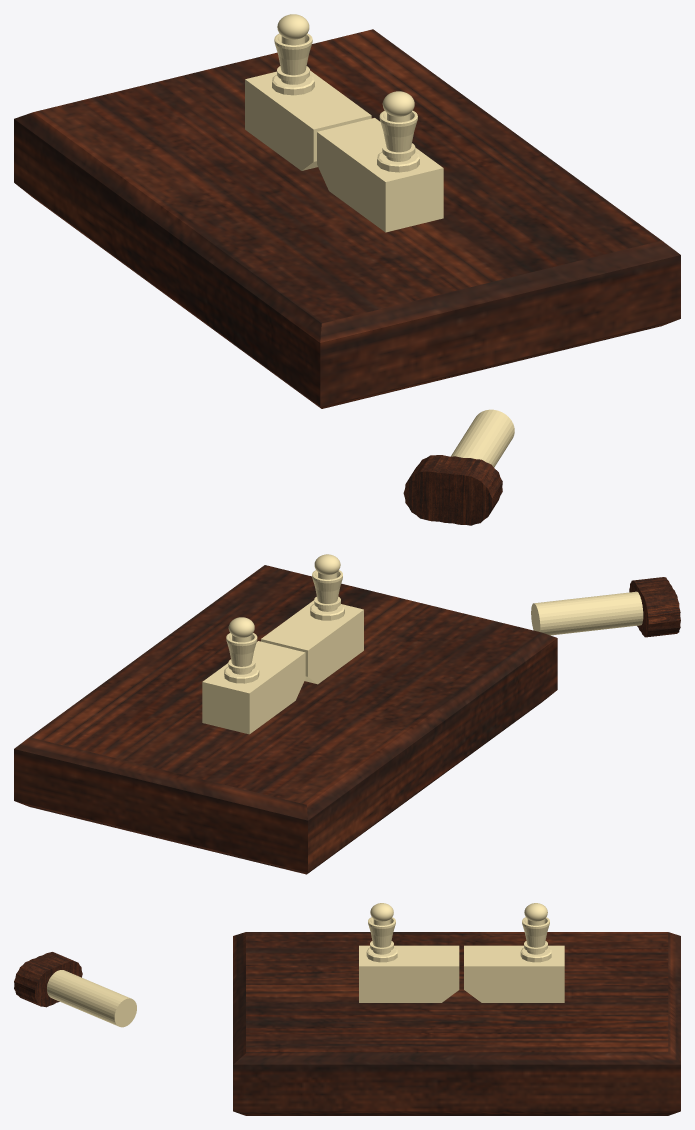
File: Key.fbx
3 renders of one model, top to bottom at view 1: azimuth 30°, elevation 25°; view 2: azimuth 150°, elevation 25°; view 3: azimuth 270°, elevation 25°, orthographic. The views are drawn at different scales.
Parts seen in each view (by area): view 1: polySurface206, polySurface224, polySurface202, polySurface194, polySurface197, polySurface198; view 2: polySurface206, polySurface202, polySurface194, polySurface224, polySurface198, polySurface197; view 3: polySurface206, polySurface194, polySurface224, polySurface202, polySurface197, polySurface198, polySurface204, polySurface200.
Boxes of the visible parts, x1,y1,x2,y2 form: polySurface206: (14,29,680,408); polySurface224: (317,118,443,232); polySurface202: (403,409,514,525); polySurface194: (245,70,371,170); polySurface197: (379,110,417,161); polySurface198: (274,33,312,84); polySurface206: (14,565,557,874); polySurface202: (531,577,680,637); polySurface194: (202,641,305,734); polySurface224: (261,600,363,684); polySurface198: (226,633,257,674); polySurface197: (312,570,342,611); polySurface206: (233,932,680,1115); polySurface194: (464,945,564,1002); polySurface224: (359,945,459,1002); polySurface202: (14,952,136,1027); polySurface197: (368,917,395,954); polySurface198: (522,917,549,954); polySurface204: (524,903,547,921); polySurface200: (370,903,393,921).
Bounding box in the file's own units: 11.54 × 5.94 × 23.1.
